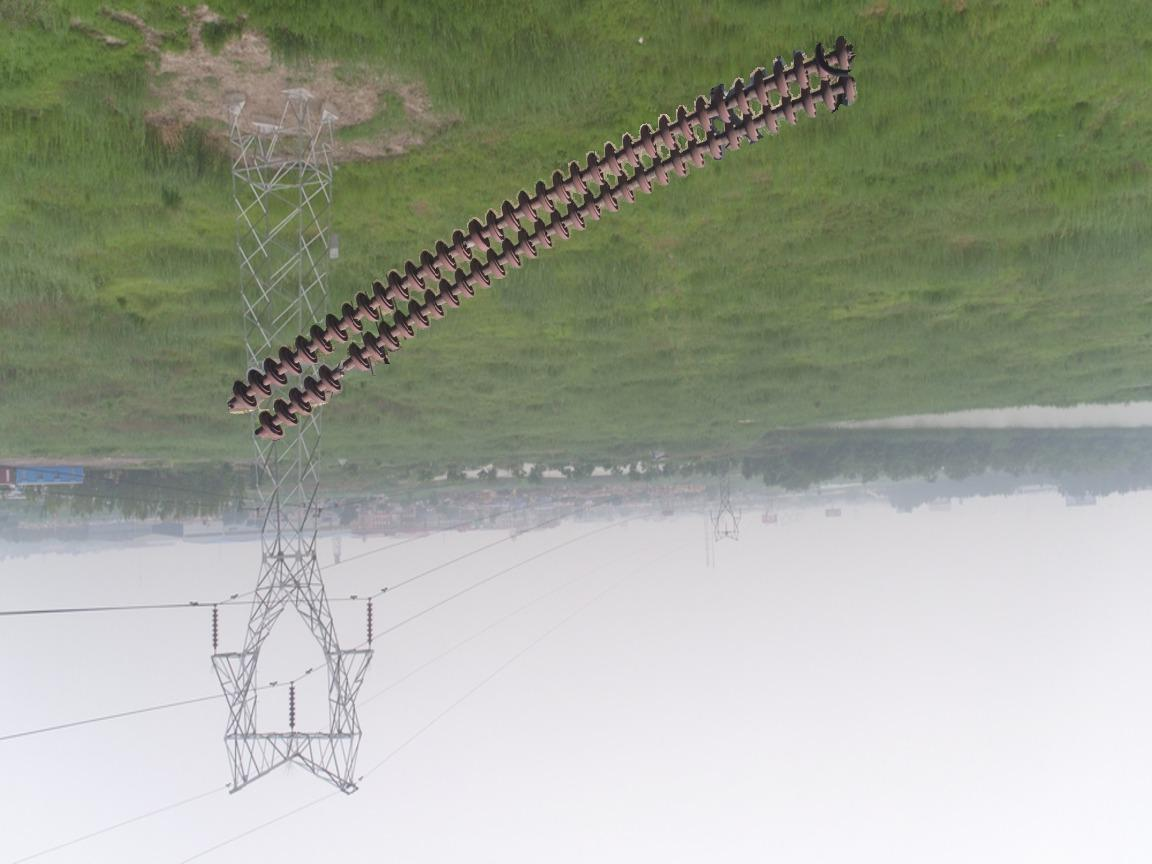insulator: (225, 33, 865, 438), (209, 603, 221, 653), (365, 599, 376, 646), (285, 685, 297, 728)
insulator_stringdrop: (315, 341, 373, 397)
